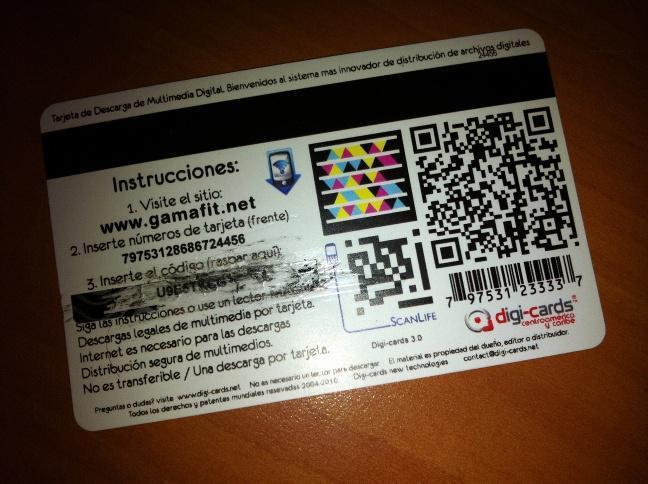qr_code: (410, 106, 580, 268)
